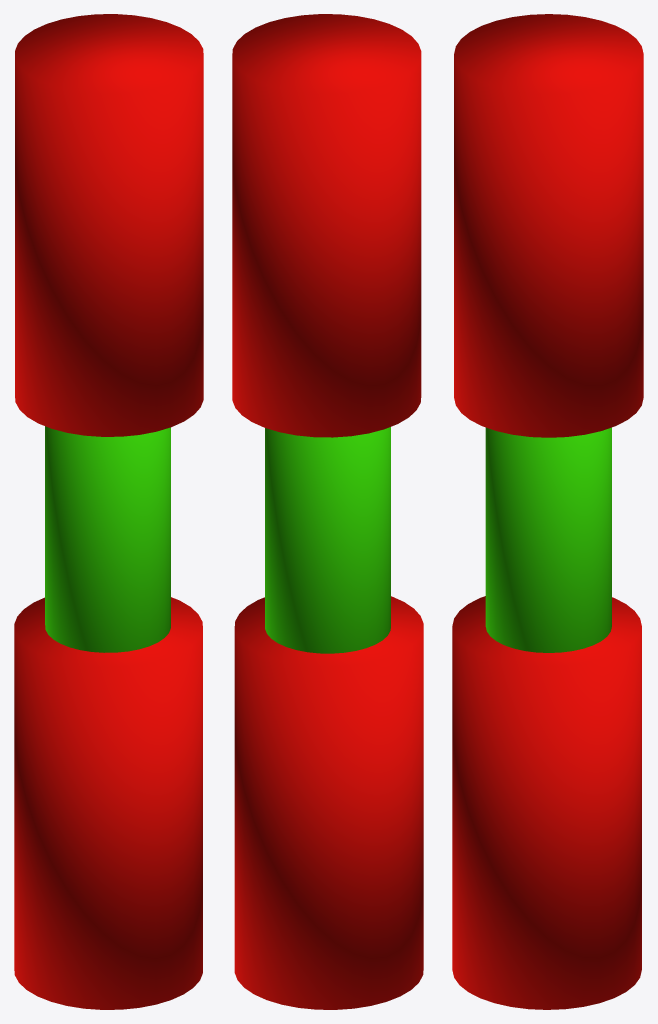
Rendered from goodfuse.fbx.
3 renders of one model, left to right at view 1: azimuth 30°, elevation 25°; view 2: azimuth 150°, elevation 25°; view 3: azimuth 270°, elevation 25°, orthographic.
Visible parts, largest first — view 1: Cylinder.002, Cylinder.001, Cylinder; view 2: Cylinder.002, Cylinder.001, Cylinder; view 3: Cylinder.002, Cylinder.001, Cylinder.
Boxes of the visible parts, box(x1,y1,x2,y2) form: Cylinder.002: box(15, 14, 203, 436); Cylinder.001: box(14, 597, 202, 1009); Cylinder: box(45, 426, 170, 652); Cylinder.002: box(232, 14, 421, 437); Cylinder.001: box(234, 596, 423, 1009); Cylinder: box(265, 427, 390, 653); Cylinder.002: box(454, 14, 643, 437); Cylinder.001: box(452, 596, 641, 1009); Cylinder: box(485, 427, 611, 652).
Bounding box in the file's own units: 3.03 × 16 × 3.03.
